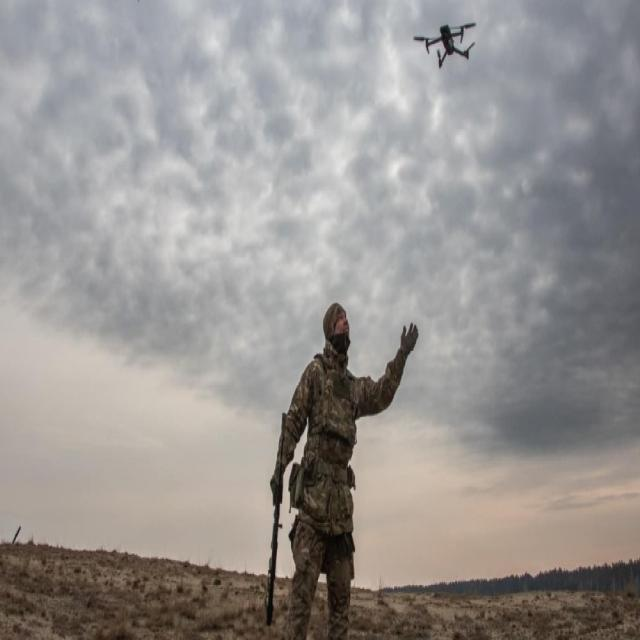drone: (413, 15, 480, 70)
